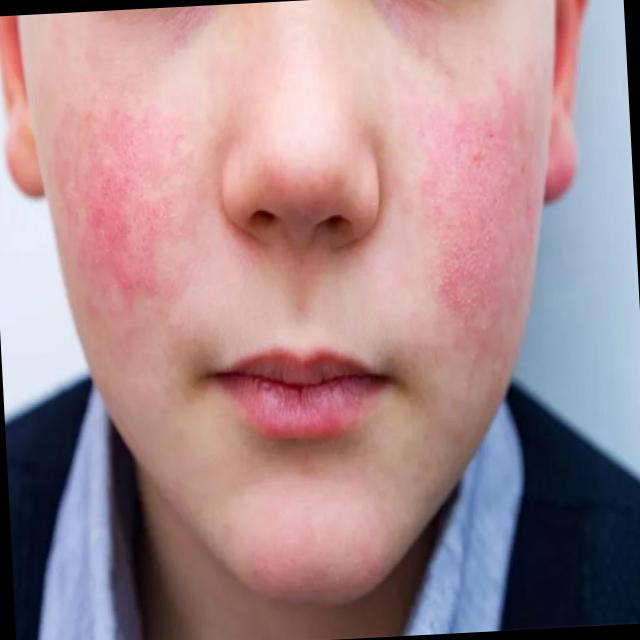redness: (421, 75, 539, 358), (47, 113, 184, 311)
